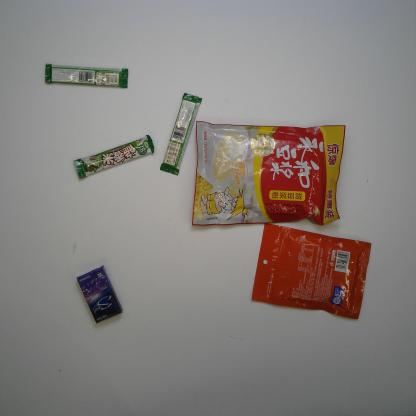Chocolate: (72, 130, 158, 185), (155, 92, 205, 178), (42, 62, 131, 92)
Dried Fruit: (249, 222, 373, 321)
Gum: (73, 261, 123, 327)
Instant Drink: (188, 119, 348, 228)
